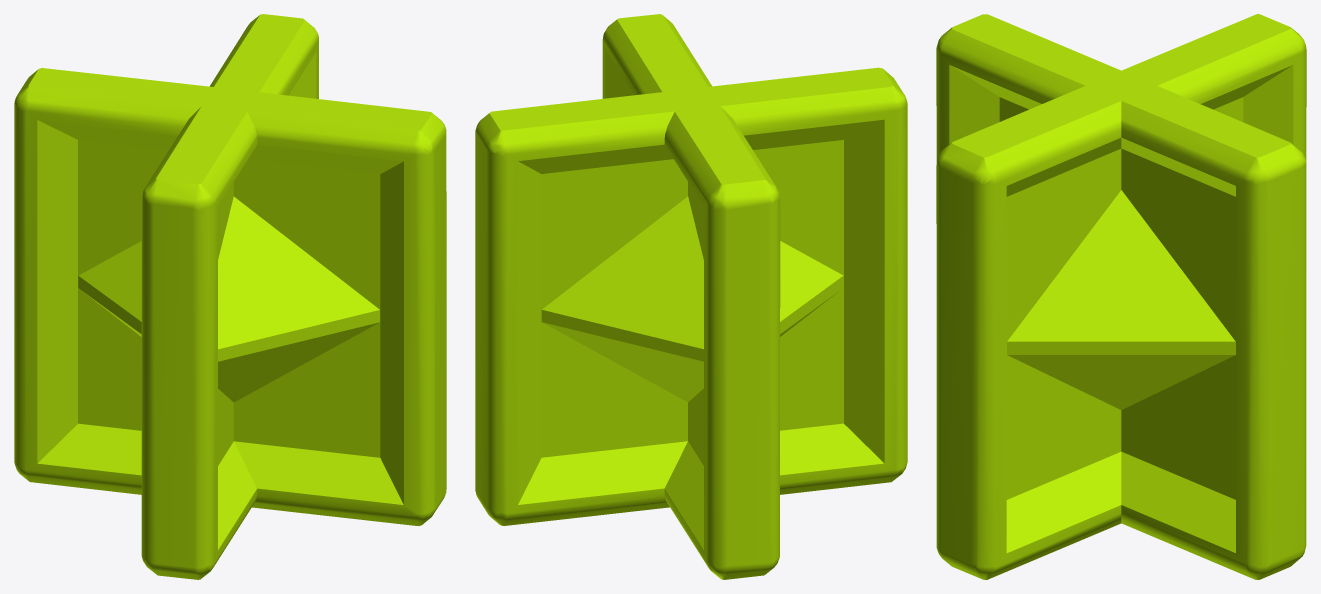
The model's file is starting-player.glb.
3 renders of one model, left to right at view 1: azimuth 30°, elevation 25°; view 2: azimuth 150°, elevation 25°; view 3: azimuth 270°, elevation 25°, orthographic. The views are drawn at different scales.
Visible parts, largest first — view 1: starting-player; view 2: starting-player; view 3: starting-player.
Boxes of the visible parts, left/top/right/bottom form: starting-player: left=14, top=14, right=446, bottom=579; starting-player: left=475, top=14, right=907, bottom=579; starting-player: left=936, top=14, right=1306, bottom=579.
Size of the model in its own units: 32.86 by 41.4 by 32.86.
